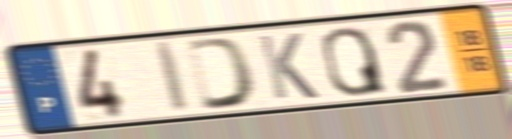2: (384, 17, 454, 97)
4: (74, 45, 128, 121)
D: (182, 34, 259, 113)
I: (152, 38, 193, 115)
K: (254, 31, 322, 102)
Q: (318, 24, 391, 99)
